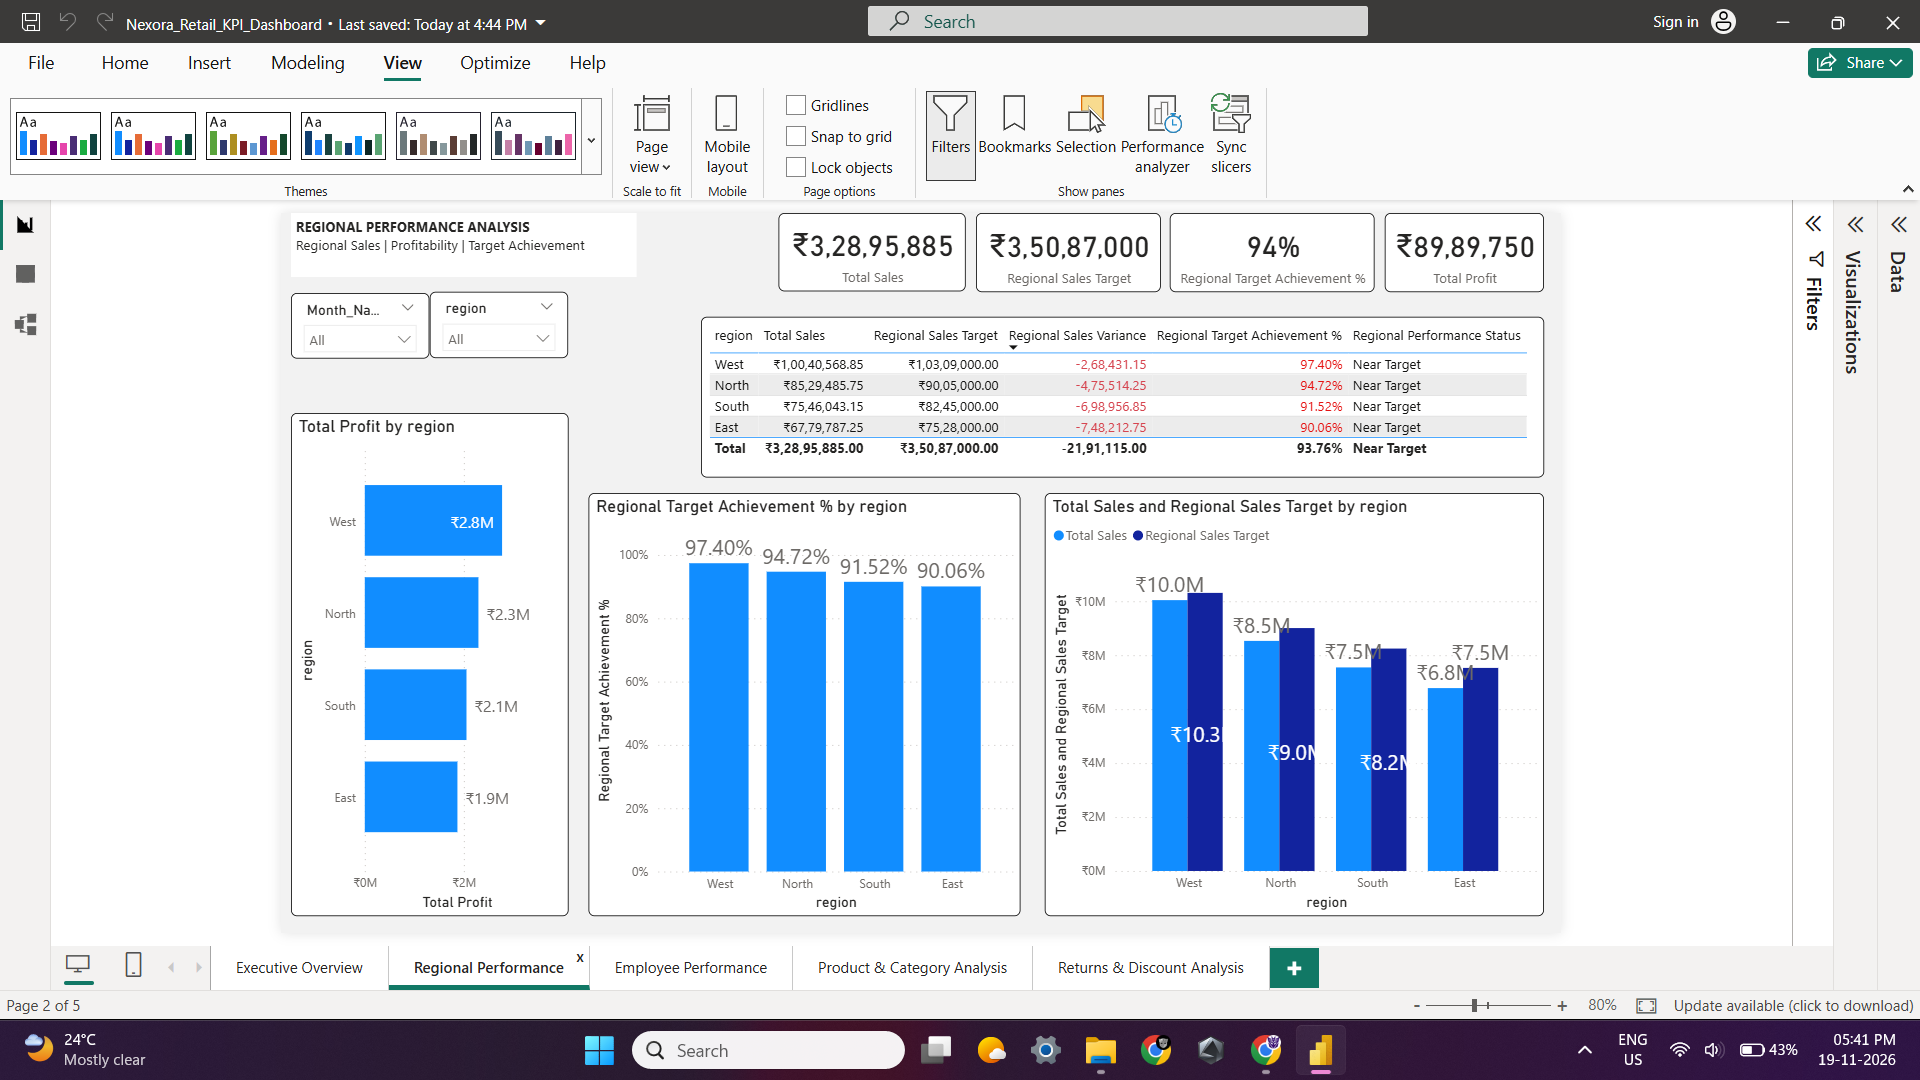

The page's visual inventory and layout, read from the dashboard file:
{"tool":"powerbi","page":{"name":"Regional Performance","canvas":[1280,720],"ordinal":1},"visuals":[{"type":"textbox","box":[10,0,345.7,64.3],"z":0},{"type":"card","fields":{"Values":["Sales_Transactions.Total Sales"]},"box":[498.1,0,186.9,78.4],"z":1000},{"type":"card","fields":{"Values":["Regional_Monthly_Targets.Regional Target Achievement %"]},"box":[888.8,0,205,79.6],"z":2000},{"type":"card","fields":{"Values":["Sales_Transactions.Total Profit"]},"box":[1103.5,0,159.2,79.6],"z":3000},{"type":"card","fields":{"Values":["Regional_Monthly_Targets.Regional Sales Target"]},"box":[694.7,0,184.5,79.6],"z":4000},{"type":"slicer","fields":{"Values":["Sales_Transactions.region"]},"box":[148.8,78.8,138.8,66.2],"z":5000},{"type":"slicer","fields":{"Values":["Calendar.Month_Name"]},"box":[10,80,138.6,65.7],"z":6000},{"type":"clusteredColumnChart","fields":{"Category":["Employees.region"],"Y":["Sales_Transactions.Total Sales","Regional_Monthly_Targets.Regional Sales Target"]},"box":[763.4,279.8,499.3,423.3],"z":7000},{"type":"clusteredBarChart","fields":{"Category":["Employees.region"],"Y":["Sales_Transactions.Total Profit"]},"box":[9.6,200.2,277.4,502.9],"z":8000},{"type":"clusteredColumnChart","fields":{"Category":["Employees.region"],"Y":["Regional_Monthly_Targets.Regional Target Achievement %"]},"box":[307.5,279.8,431.8,423.3],"z":9000},{"type":"tableEx","fields":{"Values":["Sales_Transactions.region","Sales_Transactions.Total Sales","Regional_Monthly_Targets.Regional Sales Target","Regional_Monthly_Targets.Regional Sales Variance","Regional_Monthly_Targets.Regional Target Achievement %","Sales_Transactions.Regional Performance Status"]},"box":[419.7,103.7,843,160.4],"z":10000}]}

Visuals, with their boxes on the page's 1280x720 design canvas (x1, y1, x2, y2). These are canvas units, not pixel positions in the 1920x1080 screenshot, which may show the page scaled, cropped or inside an application window:
textbox: x1=10, y1=0, x2=356, y2=64
card - Sales_Transactions.Total Sales: x1=498, y1=0, x2=685, y2=78
card - Regional_Monthly_Targets.Regional Target Achievement %: x1=889, y1=0, x2=1094, y2=80
card - Sales_Transactions.Total Profit: x1=1104, y1=0, x2=1263, y2=80
card - Regional_Monthly_Targets.Regional Sales Target: x1=695, y1=0, x2=879, y2=80
slicer - Sales_Transactions.region: x1=149, y1=79, x2=288, y2=145
slicer - Calendar.Month_Name: x1=10, y1=80, x2=149, y2=146
clusteredColumnChart - Employees.region x Sales_Transactions.Total Sales: x1=763, y1=280, x2=1263, y2=703
clusteredBarChart - Employees.region x Sales_Transactions.Total Profit: x1=10, y1=200, x2=287, y2=703
clusteredColumnChart - Employees.region x Regional_Monthly_Targets.Regional Target Achievement %: x1=308, y1=280, x2=739, y2=703
tableEx - Sales_Transactions.region x Sales_Transactions.Total Sales: x1=420, y1=104, x2=1263, y2=264
